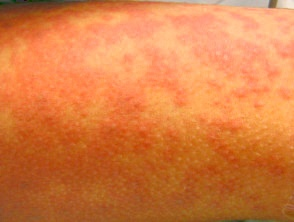SJS-TEN: (2, 1, 294, 197)
